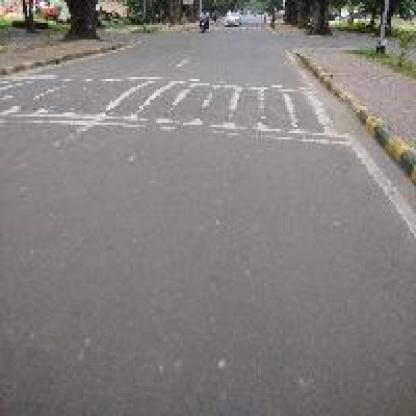Speed Bump: (0, 66, 360, 146)
